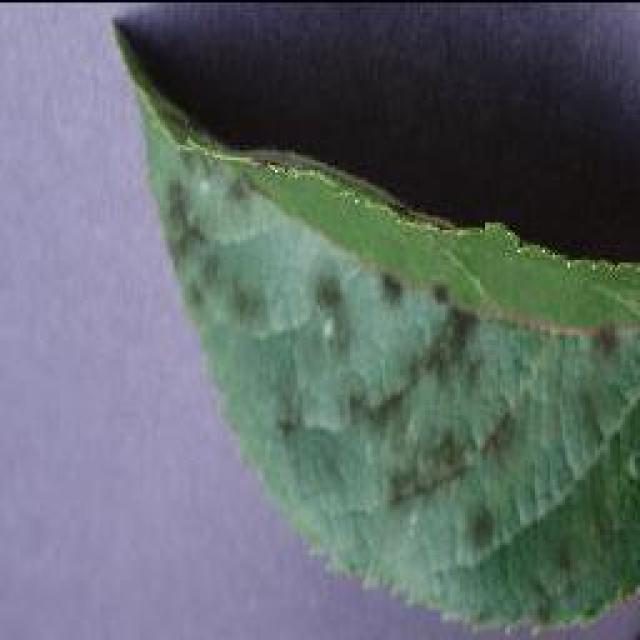apple scab disease: (108, 0, 638, 635)
